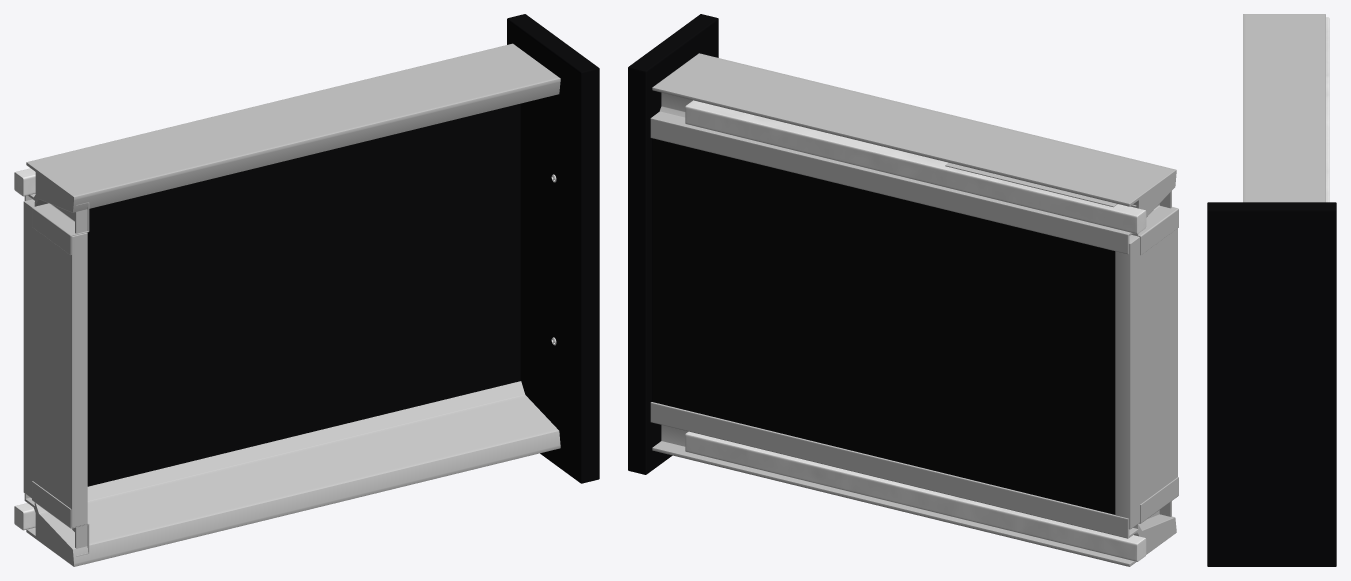
File: Kitchen10Drawer01.obj
3 renders of one model, left to right at view 1: azimuth 30°, elevation 25°; view 2: azimuth 150°, elevation 25°; view 3: azimuth 270°, elevation 25°, orthographic. The views are drawn at different scales.
Visible parts, largest first — view 1: Kitchen10Drawer01; view 2: Kitchen10Drawer01; view 3: Kitchen10Drawer01.
Part boxes in pixels (left/top/right/bottom): Kitchen10Drawer01: left=14, top=14, right=599, bottom=566; Kitchen10Drawer01: left=628, top=14, right=1178, bottom=566; Kitchen10Drawer01: left=1207, top=14, right=1336, bottom=566.
Bounding box in the file's own units: 0.5199 × 0.397 × 0.13.
Materials: 4 (1 with a texture image).
